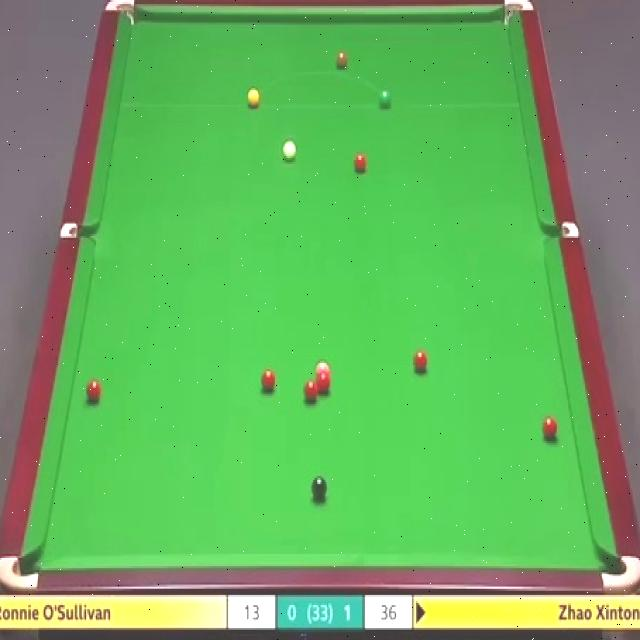black-ball: (310, 476, 328, 500)
brown-ball: (334, 50, 349, 70)
green-ball: (378, 86, 392, 108)
pink-ball: (314, 361, 328, 381)
red-ball: (541, 414, 557, 442), (85, 381, 102, 403), (352, 151, 368, 174), (412, 350, 428, 372), (304, 380, 318, 404), (261, 371, 276, 392), (317, 376, 330, 398)
white-ball: (281, 138, 298, 161)
yellow-ball: (248, 88, 260, 108)
